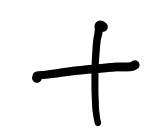plus: (31, 20, 137, 124)
